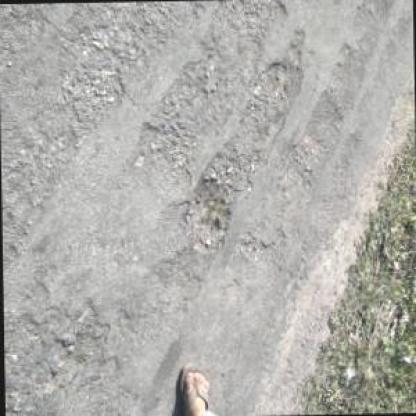pothole: (179, 165, 233, 252)
